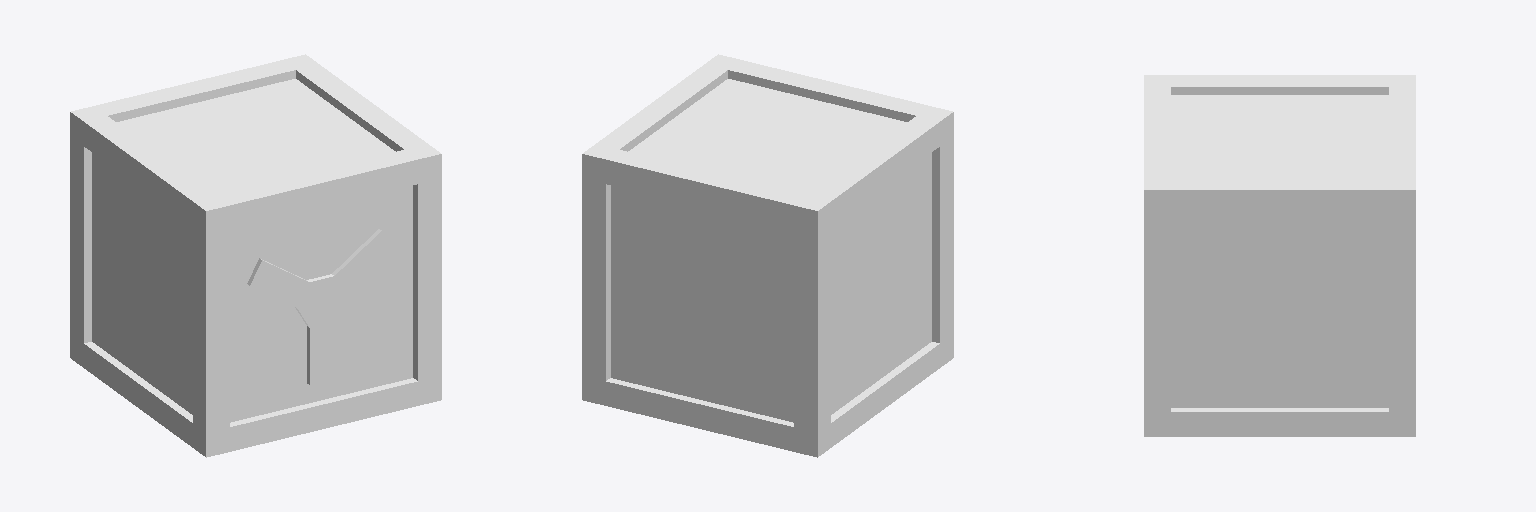
Rendered from hydrophonic.obj.
3 views of the same model, side by side, from view 1: azimuth 30°, elevation 25°; view 2: azimuth 150°, elevation 25°; view 3: azimuth 270°, elevation 25° (orthographic).
Visible parts, largest first — view 1: g0.001; view 2: g0.001; view 3: g0.001.
Boxes of the visible parts, box(x1,y1,x2,y2) form: g0.001: box(70, 54, 441, 457); g0.001: box(582, 54, 953, 457); g0.001: box(1144, 75, 1415, 436).
Size of the model in its own units: 1 by 1 by 1.